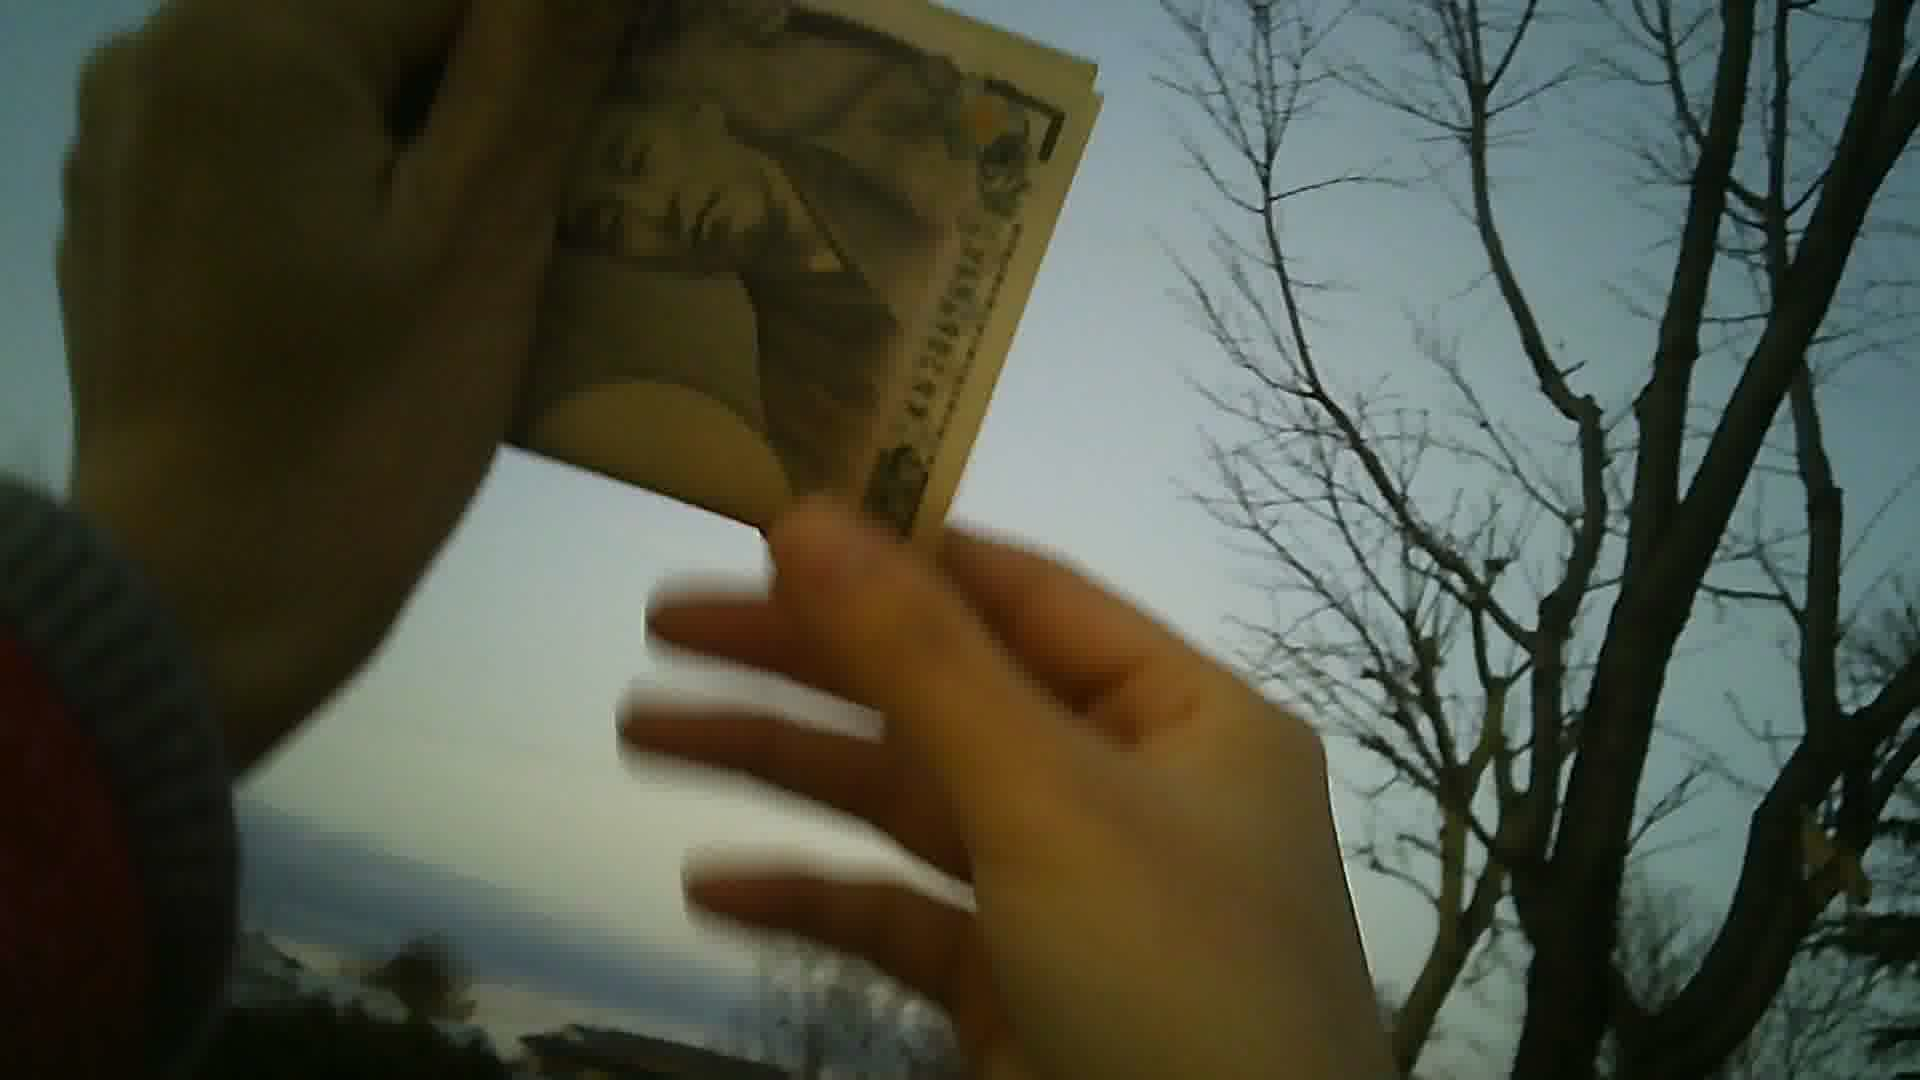10,000 Yen: (406, 17, 1081, 596)
